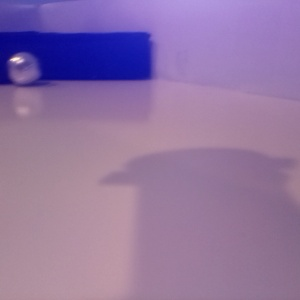alive_ball: (171, 76, 300, 300)
